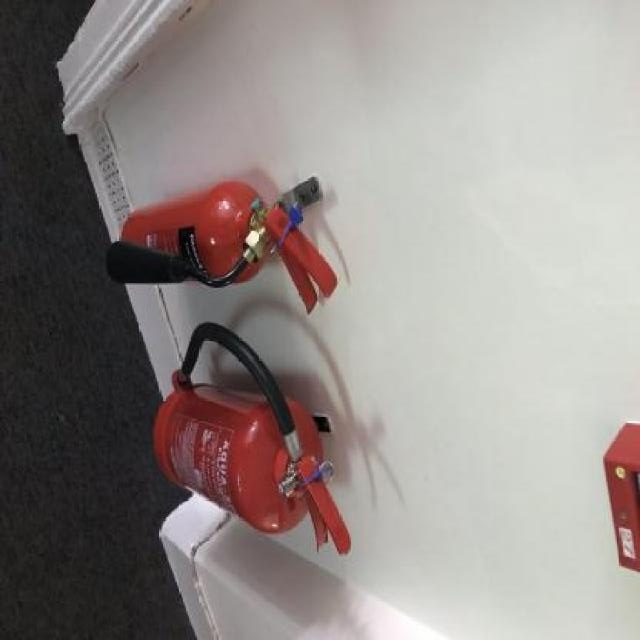fire extinguisher: (155, 321, 353, 556), (107, 175, 338, 316)
